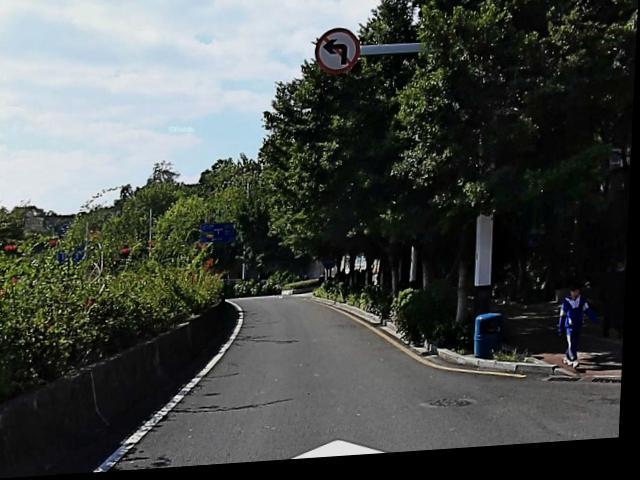not_turn_left: (316, 32, 361, 78)
